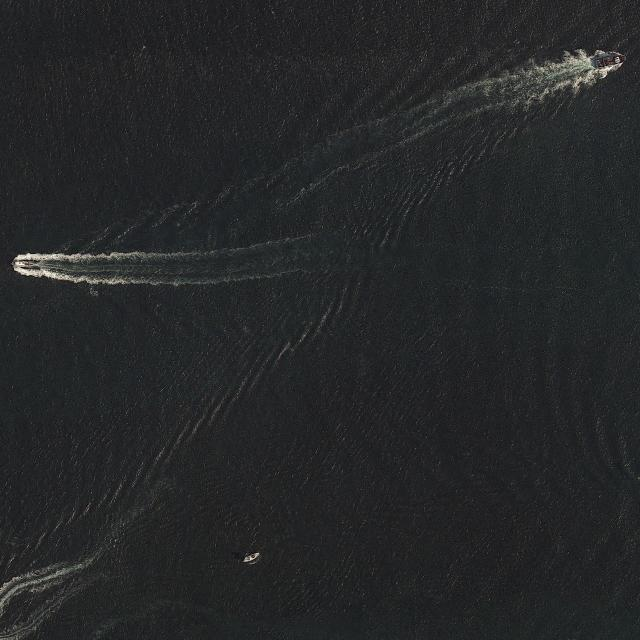ship: (594, 54, 628, 70), (242, 551, 260, 563), (10, 260, 30, 268)
